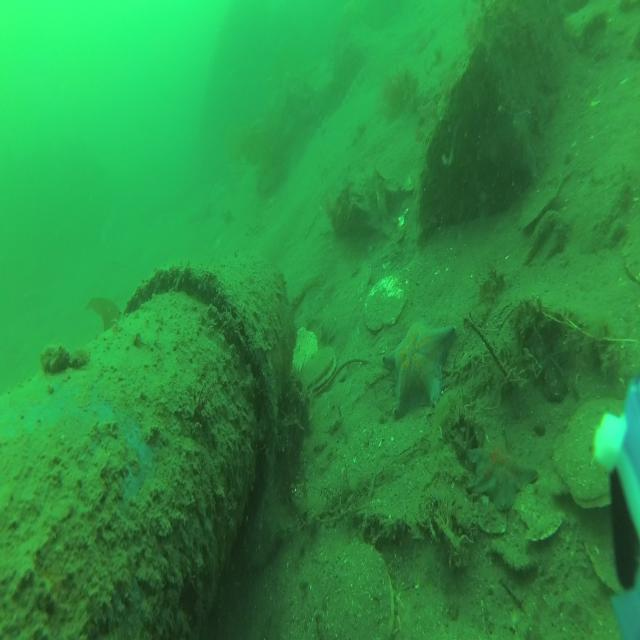scallop: (556, 396, 632, 511), (320, 548, 395, 640), (366, 276, 405, 333), (300, 350, 337, 395)
starfish: (383, 321, 456, 420), (469, 439, 538, 511)
